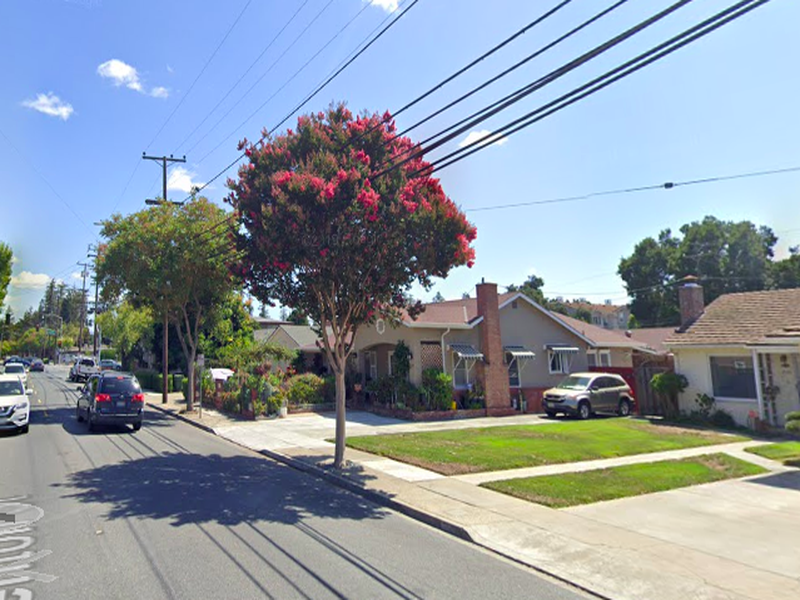tree: (223, 100, 478, 476), (94, 198, 246, 416)
